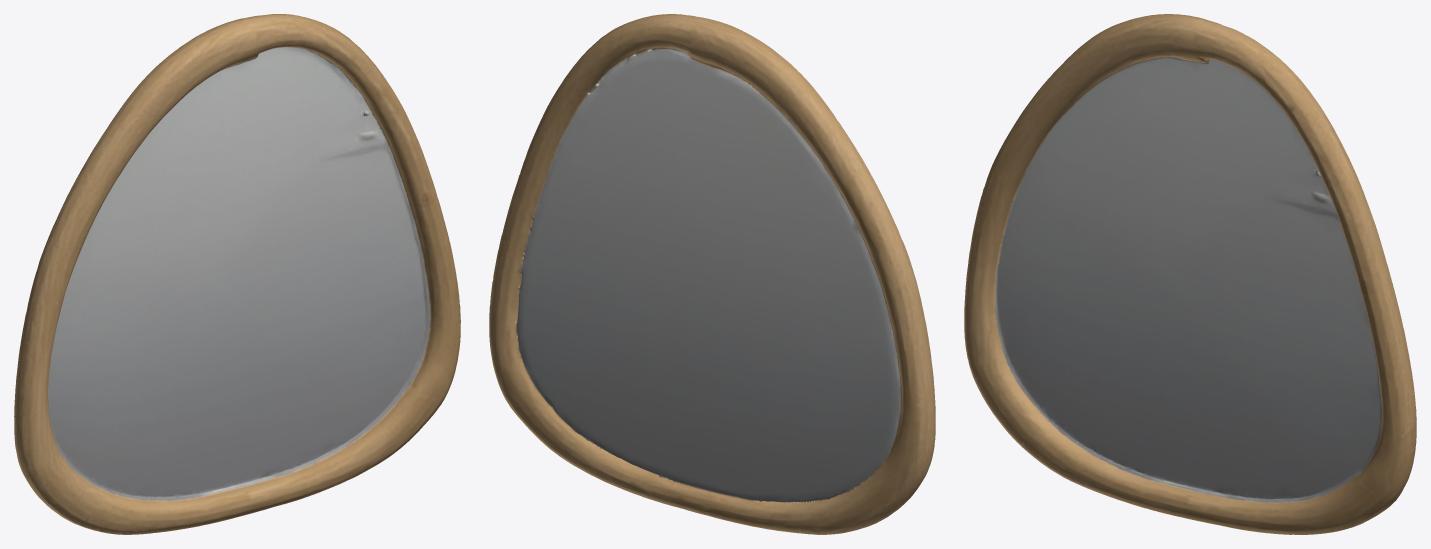
The model's file is organic-wood-mirror-light-oak-web-mesh.glb.
3 views of the same model, side by side, from view 1: azimuth 30°, elevation 25°; view 2: azimuth 150°, elevation 25°; view 3: azimuth 330°, elevation 25° (orthographic).
Visible parts, largest first — view 1: world; view 2: world; view 3: world.
Boxes of the visible parts, x1,y1,x2,y2 form: world: (14,14,460,534); world: (489,14,935,534); world: (964,14,1416,534).
Size of the model in its own units: 0.9406 by 1 by 0.0649.
1 material, 1 textured.
